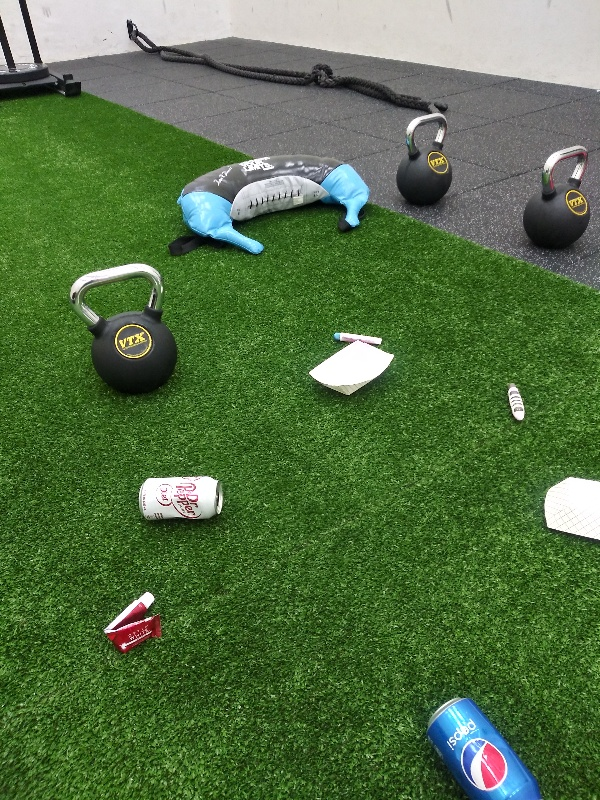can: (421, 690, 546, 800), (136, 473, 228, 525)
plate: (305, 337, 399, 403), (532, 473, 600, 541)
